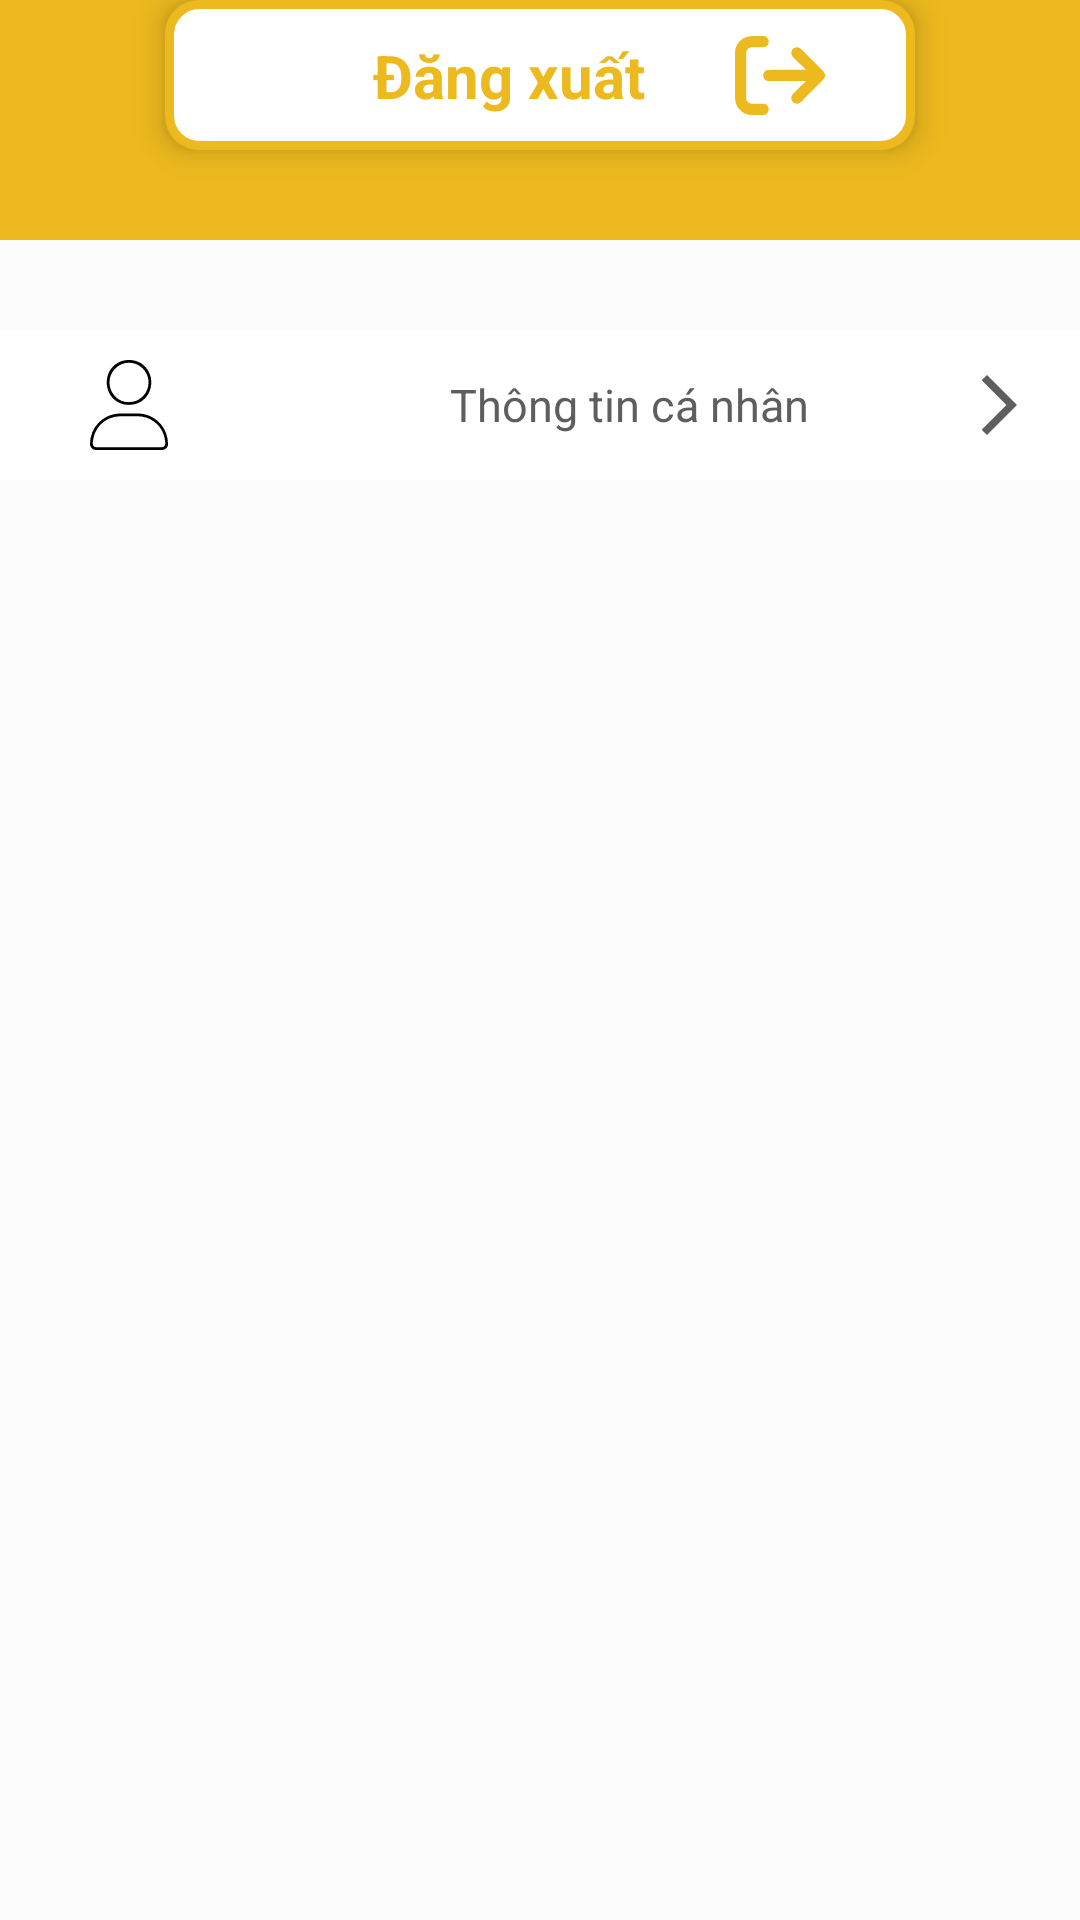

Locate icon controls on the screen. Image size 1080*1920, boxes as box(x1, y1, x2, y2).
arrow forward: box(982, 375, 1017, 435)
user: box(90, 360, 168, 450)
